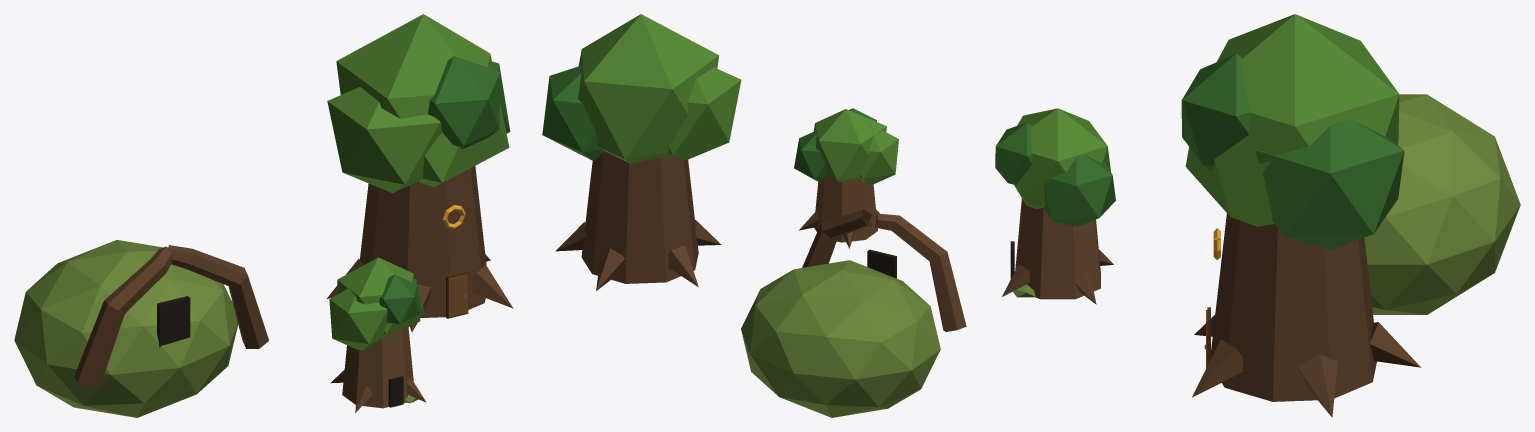
The model's file is treekin_compound_broken.glb.
3 renders of one model, left to right at view 1: azimuth 30°, elevation 25°; view 2: azimuth 150°, elevation 25°; view 3: azimuth 270°, elevation 25°, orthographic. The views are drawn at different scales.
Visible parts, largest first — view 1: treekin_compound_piece5, treekin_compound_piece12, treekin_compound_piece4, treekin_compound_piece6, treekin_compound_piece3, treekin_compound_piece10, treekin_compound_piece7, treekin_compound_piece13, treekin_compound_piece9, treekin_compound_piece2, treekin_compound_piece0; view 2: treekin_compound_piece2, treekin_compound_piece9, treekin_compound_piece4, treekin_compound_piece5, treekin_compound_piece6, treekin_compound_piece12, treekin_compound_piece1, treekin_compound_piece10, treekin_compound_piece3, treekin_compound_piece13, treekin_compound_piece7, treekin_compound_piece0; view 3: treekin_compound_piece5, treekin_compound_piece2, treekin_compound_piece6, treekin_compound_piece1, treekin_compound_piece9, treekin_compound_piece4, treekin_compound_piece8, treekin_compound_piece13, treekin_compound_piece11.
Part boxes in pixels (x1=…): treekin_compound_piece5: x1=329, y1=14, x2=510, y2=224; treekin_compound_piece12: x1=31, y1=275, x2=182, y2=408; treekin_compound_piece4: x1=327, y1=59, x2=498, y2=332; treekin_compound_piece6: x1=329, y1=122, x2=426, y2=412; treekin_compound_piece3: x1=136, y1=150, x2=361, y2=403; treekin_compound_piece10: x1=21, y1=261, x2=181, y2=417; treekin_compound_piece7: x1=133, y1=245, x2=353, y2=403; treekin_compound_piece13: x1=53, y1=243, x2=242, y2=346; treekin_compound_piece9: x1=14, y1=240, x2=144, y2=415; treekin_compound_piece2: x1=327, y1=182, x2=513, y2=309; treekin_compound_piece0: x1=51, y1=122, x2=370, y2=287; treekin_compound_piece2: x1=542, y1=84, x2=698, y2=289; treekin_compound_piece9: x1=755, y1=280, x2=918, y2=417; treekin_compound_piece4: x1=578, y1=74, x2=721, y2=269; treekin_compound_piece5: x1=547, y1=14, x2=736, y2=129; treekin_compound_piece6: x1=734, y1=77, x2=898, y2=231; treekin_compound_piece12: x1=883, y1=230, x2=966, y2=374; treekin_compound_piece1: x1=596, y1=289, x2=826, y2=415; treekin_compound_piece10: x1=839, y1=265, x2=927, y2=391; treekin_compound_piece3: x1=726, y1=124, x2=890, y2=277; treekin_compound_piece13: x1=718, y1=122, x2=889, y2=312; treekin_compound_piece7: x1=828, y1=207, x2=918, y2=272; treekin_compound_piece0: x1=716, y1=112, x2=892, y2=313; treekin_compound_piece5: x1=1181, y1=14, x2=1388, y2=257; treekin_compound_piece2: x1=1192, y1=102, x2=1419, y2=417; treekin_compound_piece6: x1=995, y1=108, x2=1115, y2=299; treekin_compound_piece1: x1=1378, y1=179, x2=1520, y2=367; treekin_compound_piece9: x1=1399, y1=96, x2=1514, y2=202; treekin_compound_piece4: x1=1194, y1=39, x2=1399, y2=373; treekin_compound_piece8: x1=1364, y1=188, x2=1460, y2=314; treekin_compound_piece13: x1=1398, y1=94, x2=1430, y2=169; treekin_compound_piece11: x1=1067, y1=245, x2=1100, y2=304.
Bounding box in the file's own units: 5.82 × 4.41 × 4.66.
